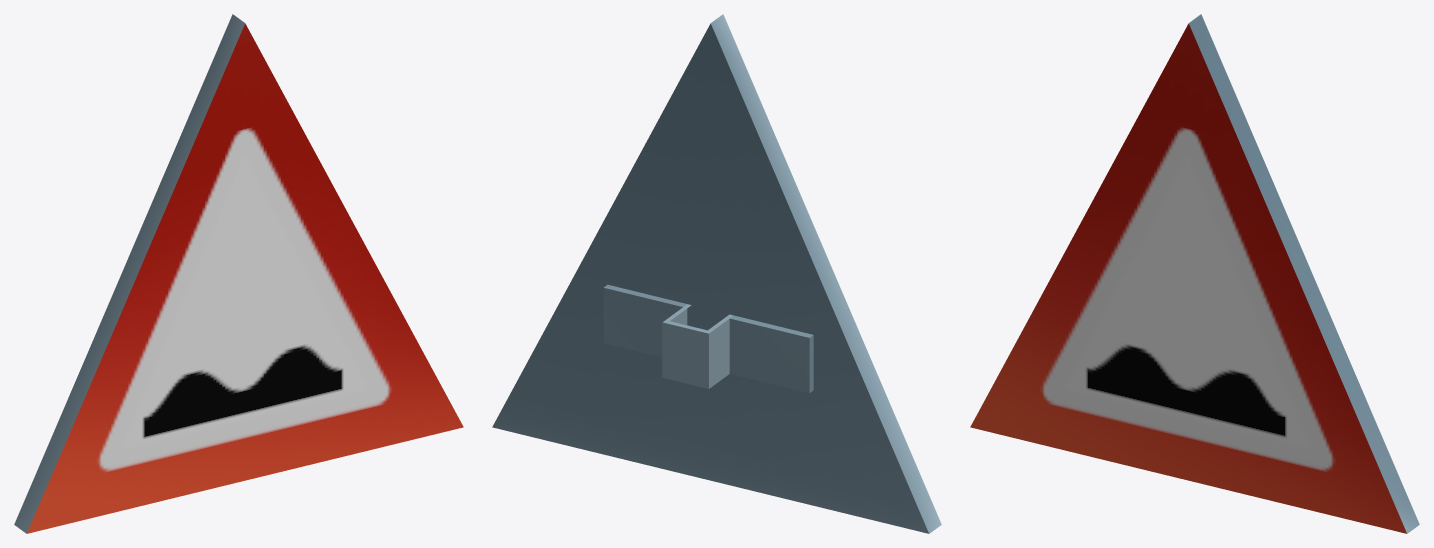
File: Sign9Austrian.fbx
The picture shows the model from 3 angles, left to right: view 1: azimuth 30°, elevation 25°; view 2: azimuth 150°, elevation 25°; view 3: azimuth 330°, elevation 25°; orthographic projection.
Parts seen in each view (by area): view 1: Sign9Austrian; view 2: Sign9Austrian; view 3: Sign9Austrian.
Boxes of the visible parts, box(x1,y1,x2,y2) form: Sign9Austrian: box(14, 14, 463, 533); Sign9Austrian: box(492, 14, 941, 533); Sign9Austrian: box(970, 14, 1419, 533).
Bounding box in the file's own units: 1 × 1 × 0.1489.
